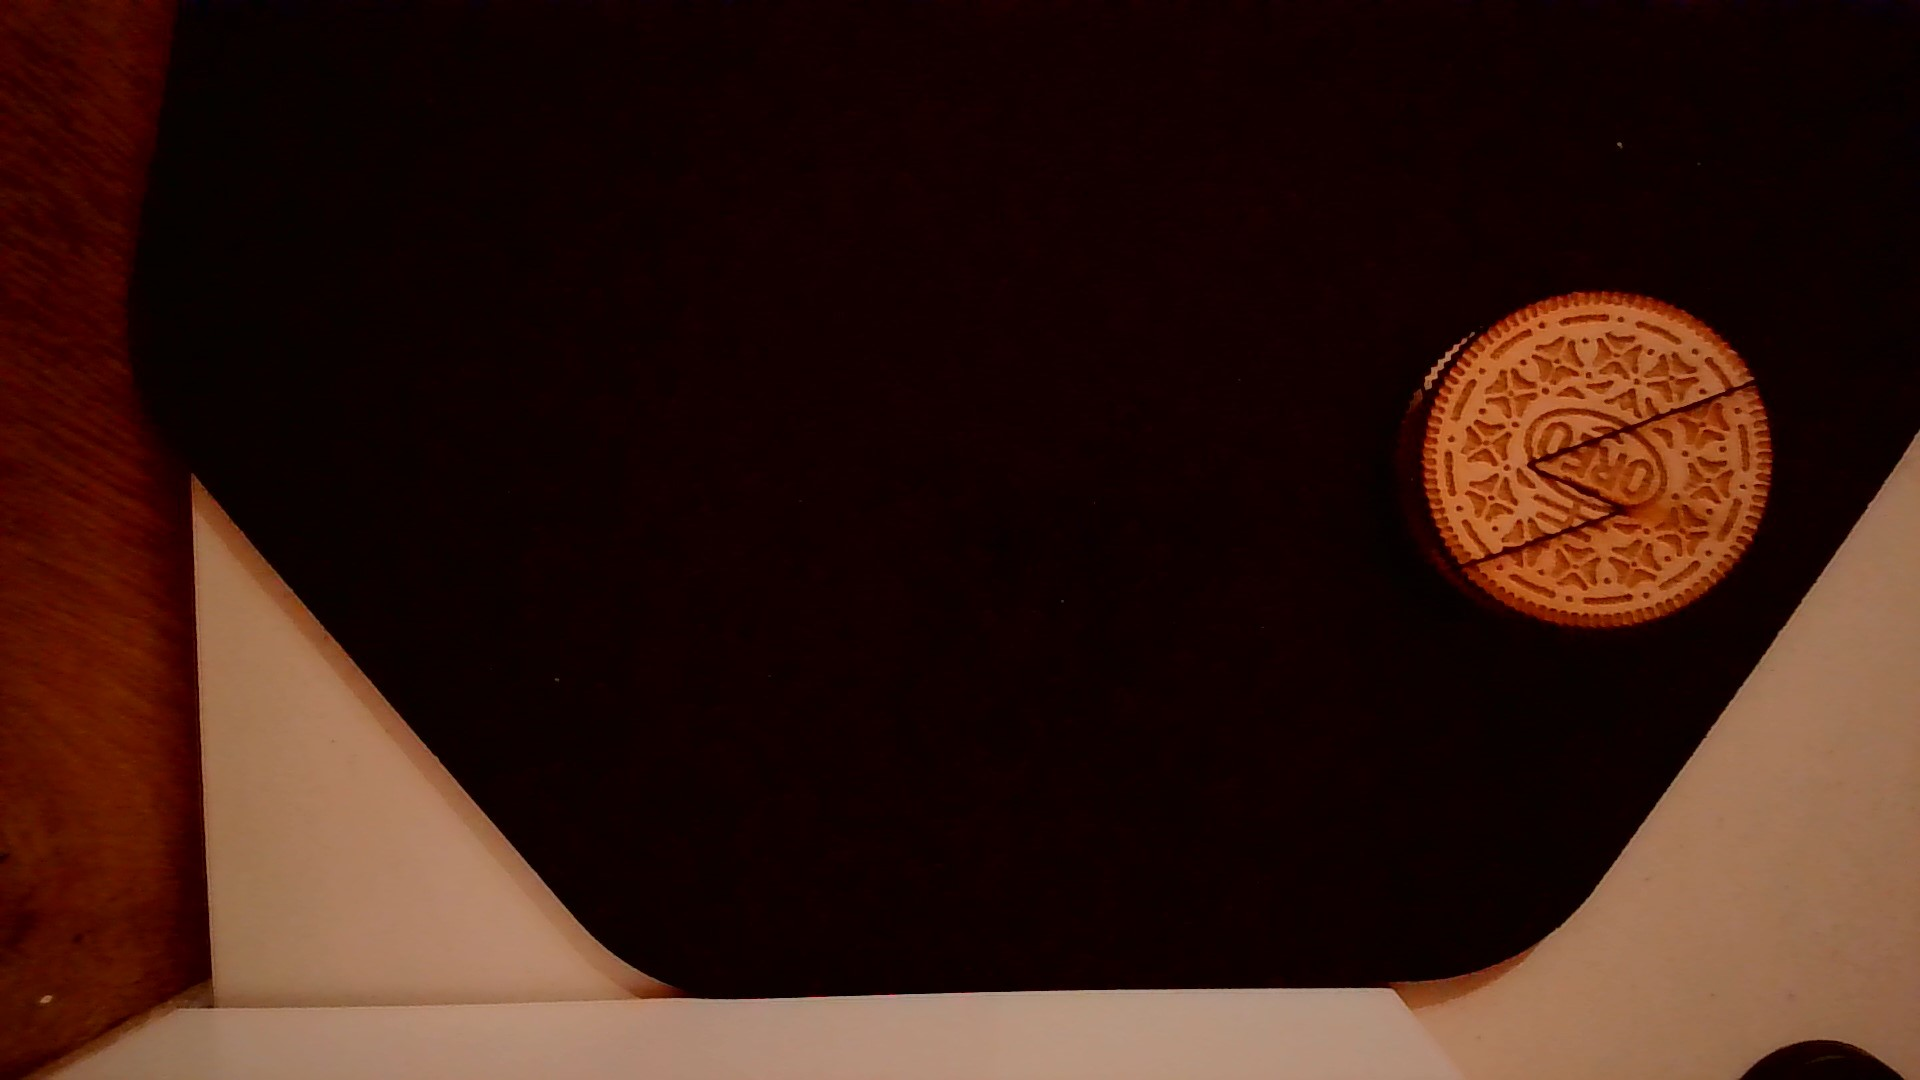Fissure: (1439, 368, 1774, 578)
Oréo: (1410, 282, 1779, 634)
